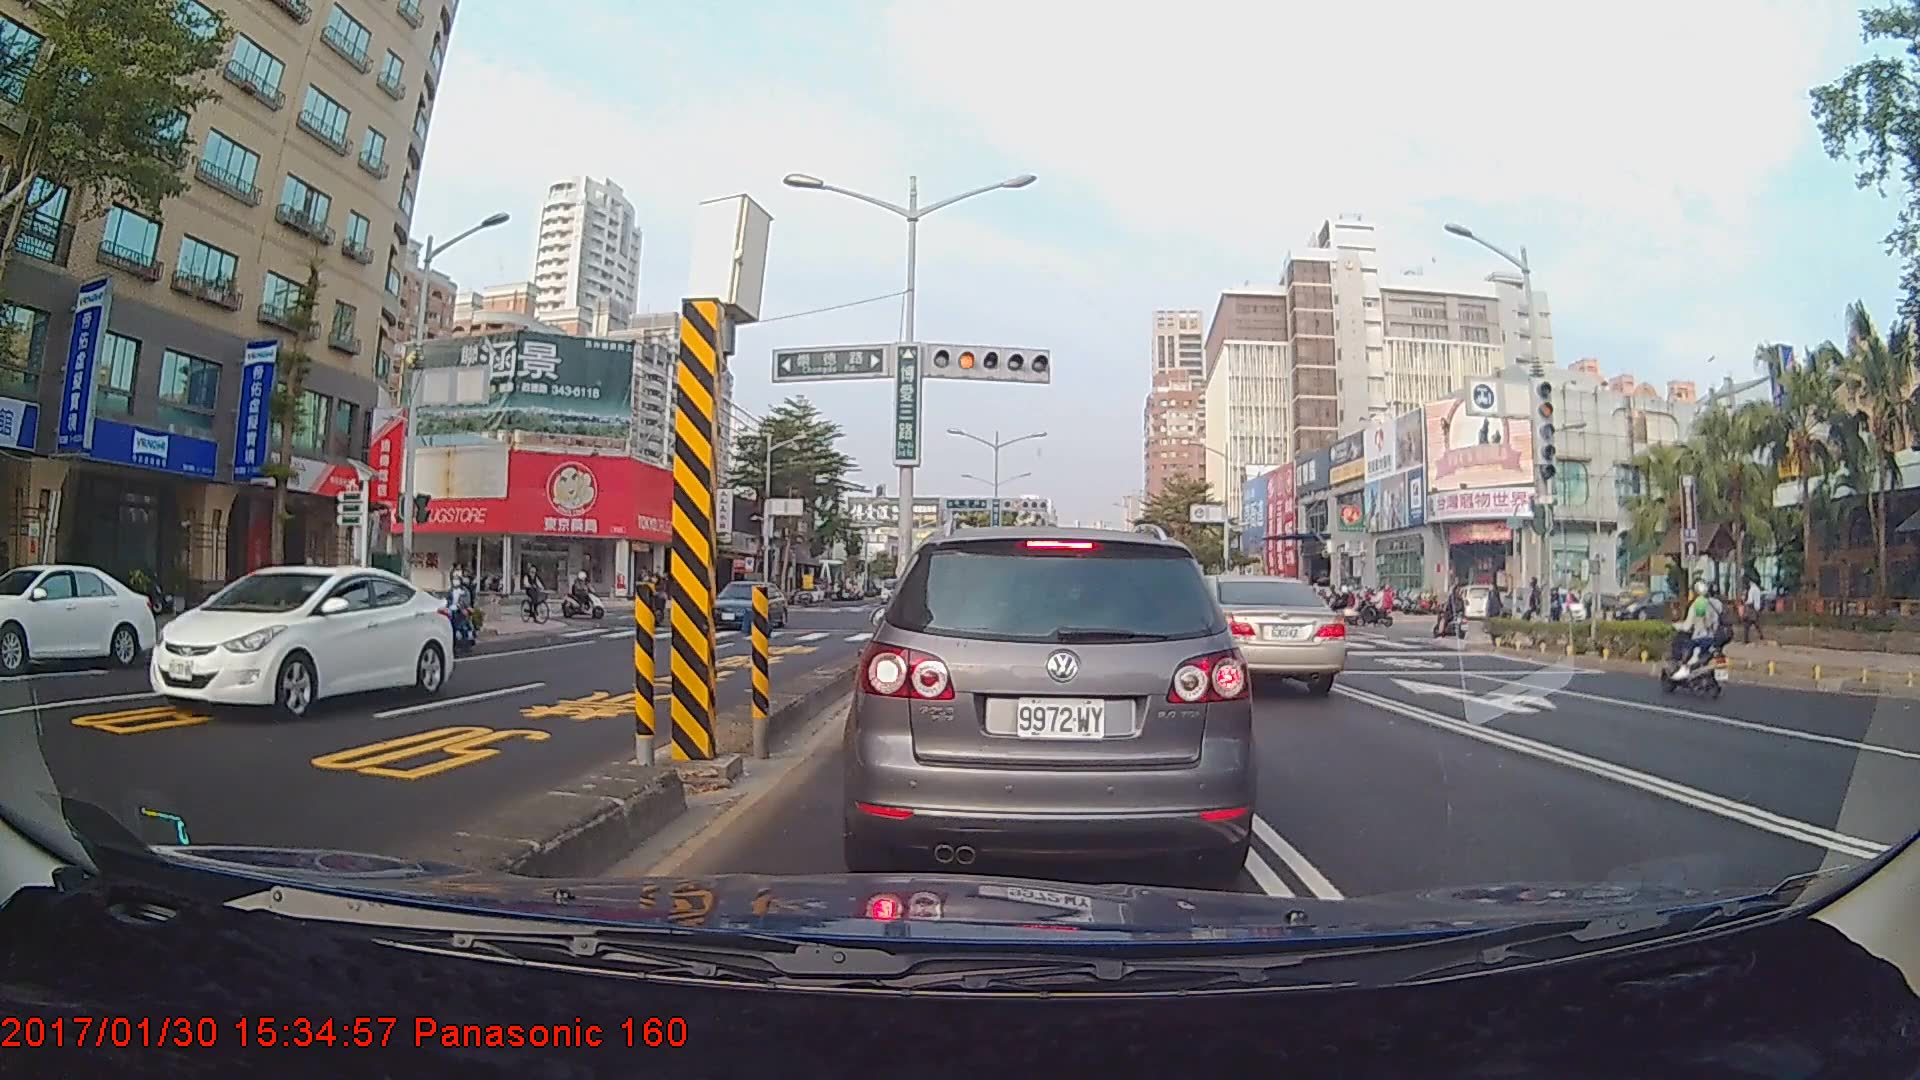pedestrian: (1741, 576, 1767, 643), (1484, 579, 1508, 637), (448, 558, 468, 621)
rider: (1662, 580, 1743, 701), (436, 568, 488, 660), (561, 568, 613, 625), (518, 559, 553, 629), (1436, 582, 1473, 646)
vehicle: (854, 521, 1251, 872), (146, 563, 454, 720), (1165, 572, 1348, 698), (0, 561, 157, 671), (704, 579, 788, 630)
